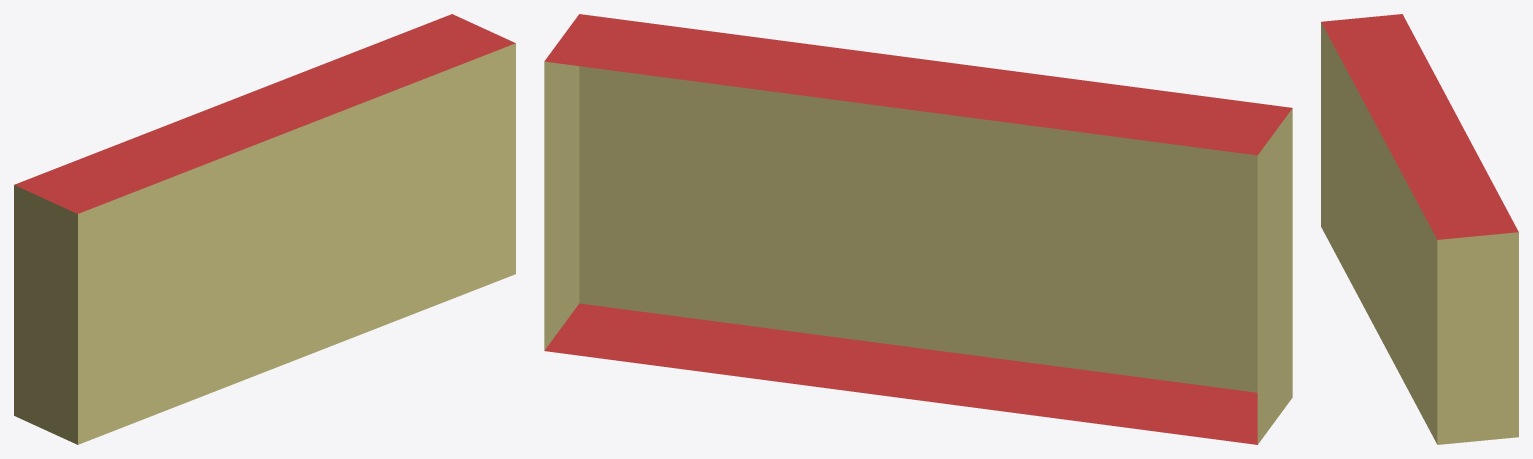
The picture shows the model from 3 angles, left to right: view 1: azimuth 30°, elevation 25°; view 2: azimuth 150°, elevation 25°; view 3: azimuth 270°, elevation 25°; orthographic projection. The views are drawn at different scales.
Bounding box in the file's own units: 13.62 × 5.04 × 5.76.
